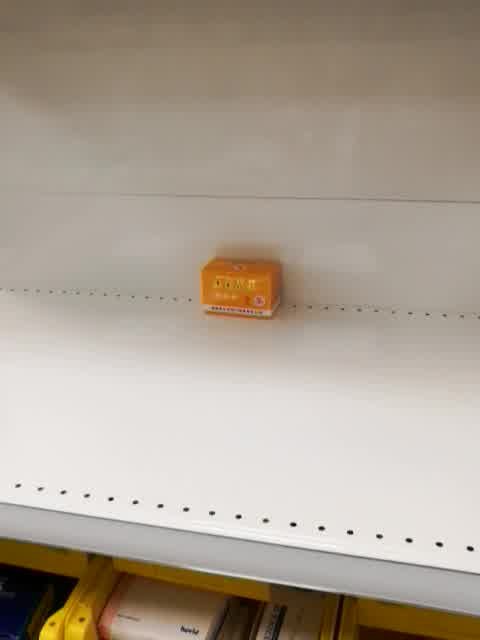jasminetea: (200, 257, 284, 322)
